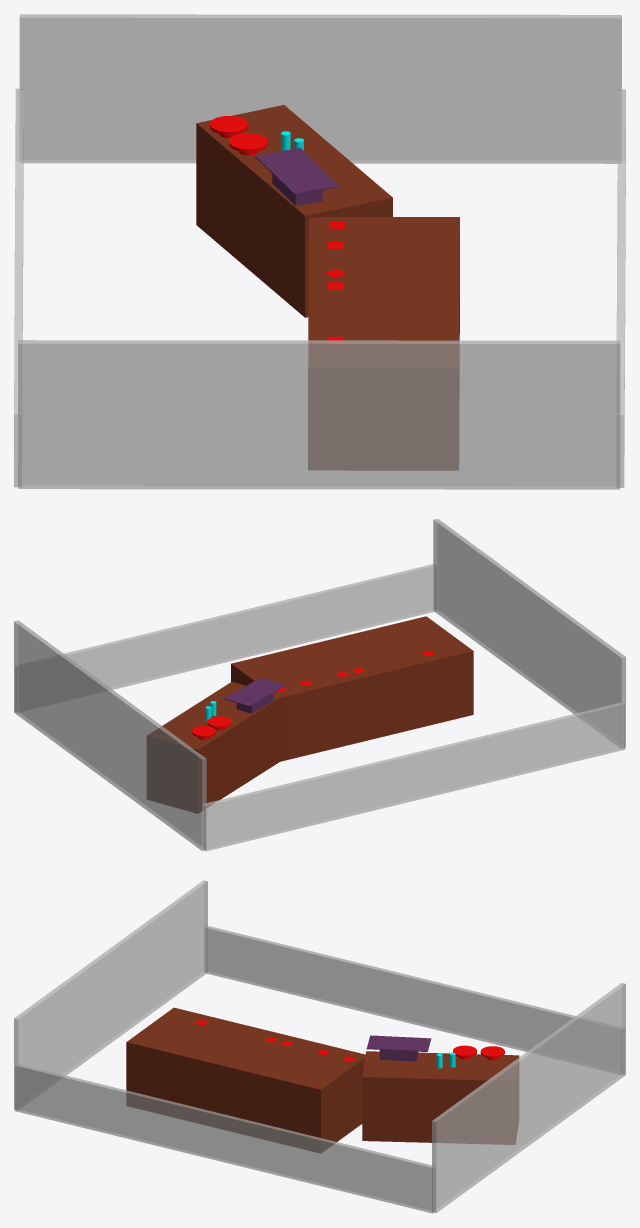
The model's file is env2.dae.
3 views of the same model, one above another, from view 1: azimuth 30°, elevation 25°; view 2: azimuth 150°, elevation 25°; view 3: azimuth 270°, elevation 25° (orthographic). The views are drawn at different scales.
Parts seen in each view (by area): view 1: base (×12); view 2: base (×13); view 3: base (×13).
Boxes of the visible parts, bbox=[...] form: base (×12): bbox=[14, 14, 625, 489]; base (×13): bbox=[14, 518, 625, 851]; base (×13): bbox=[14, 880, 625, 1213].
Size of the model in its own units: 5.7 by 6.08 by 1.2.
